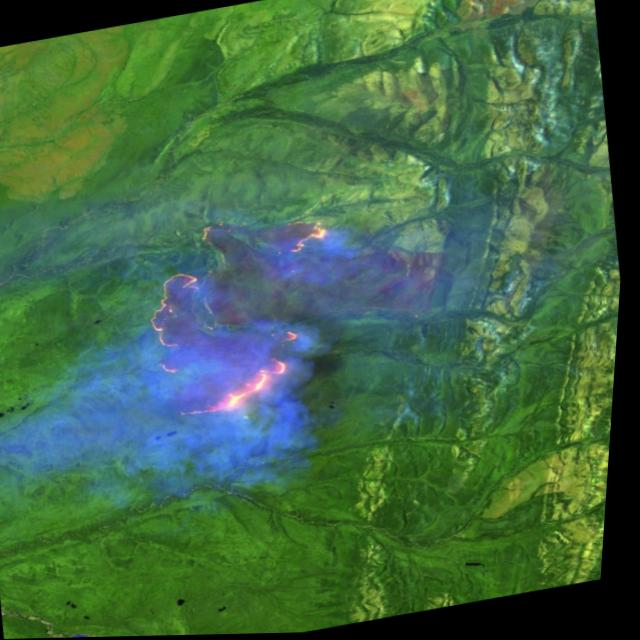fire: (121, 202, 361, 431)
